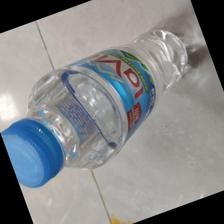Lavie: (1, 30, 192, 189)
